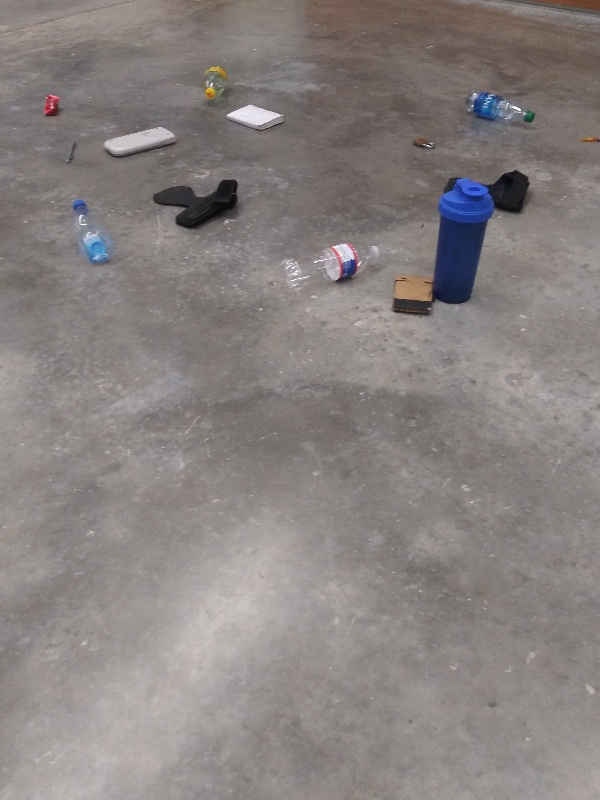bottle: (279, 240, 386, 293), (68, 197, 115, 265), (463, 89, 539, 129), (201, 61, 234, 102)
